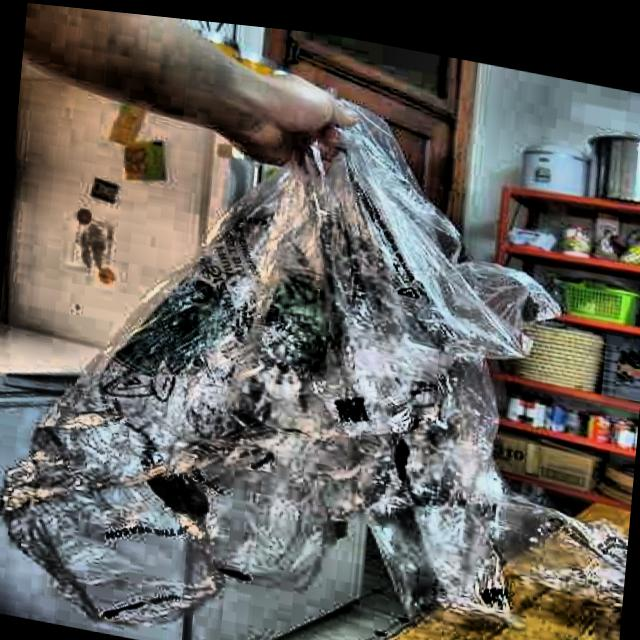Plastic: (6, 62, 595, 640)
